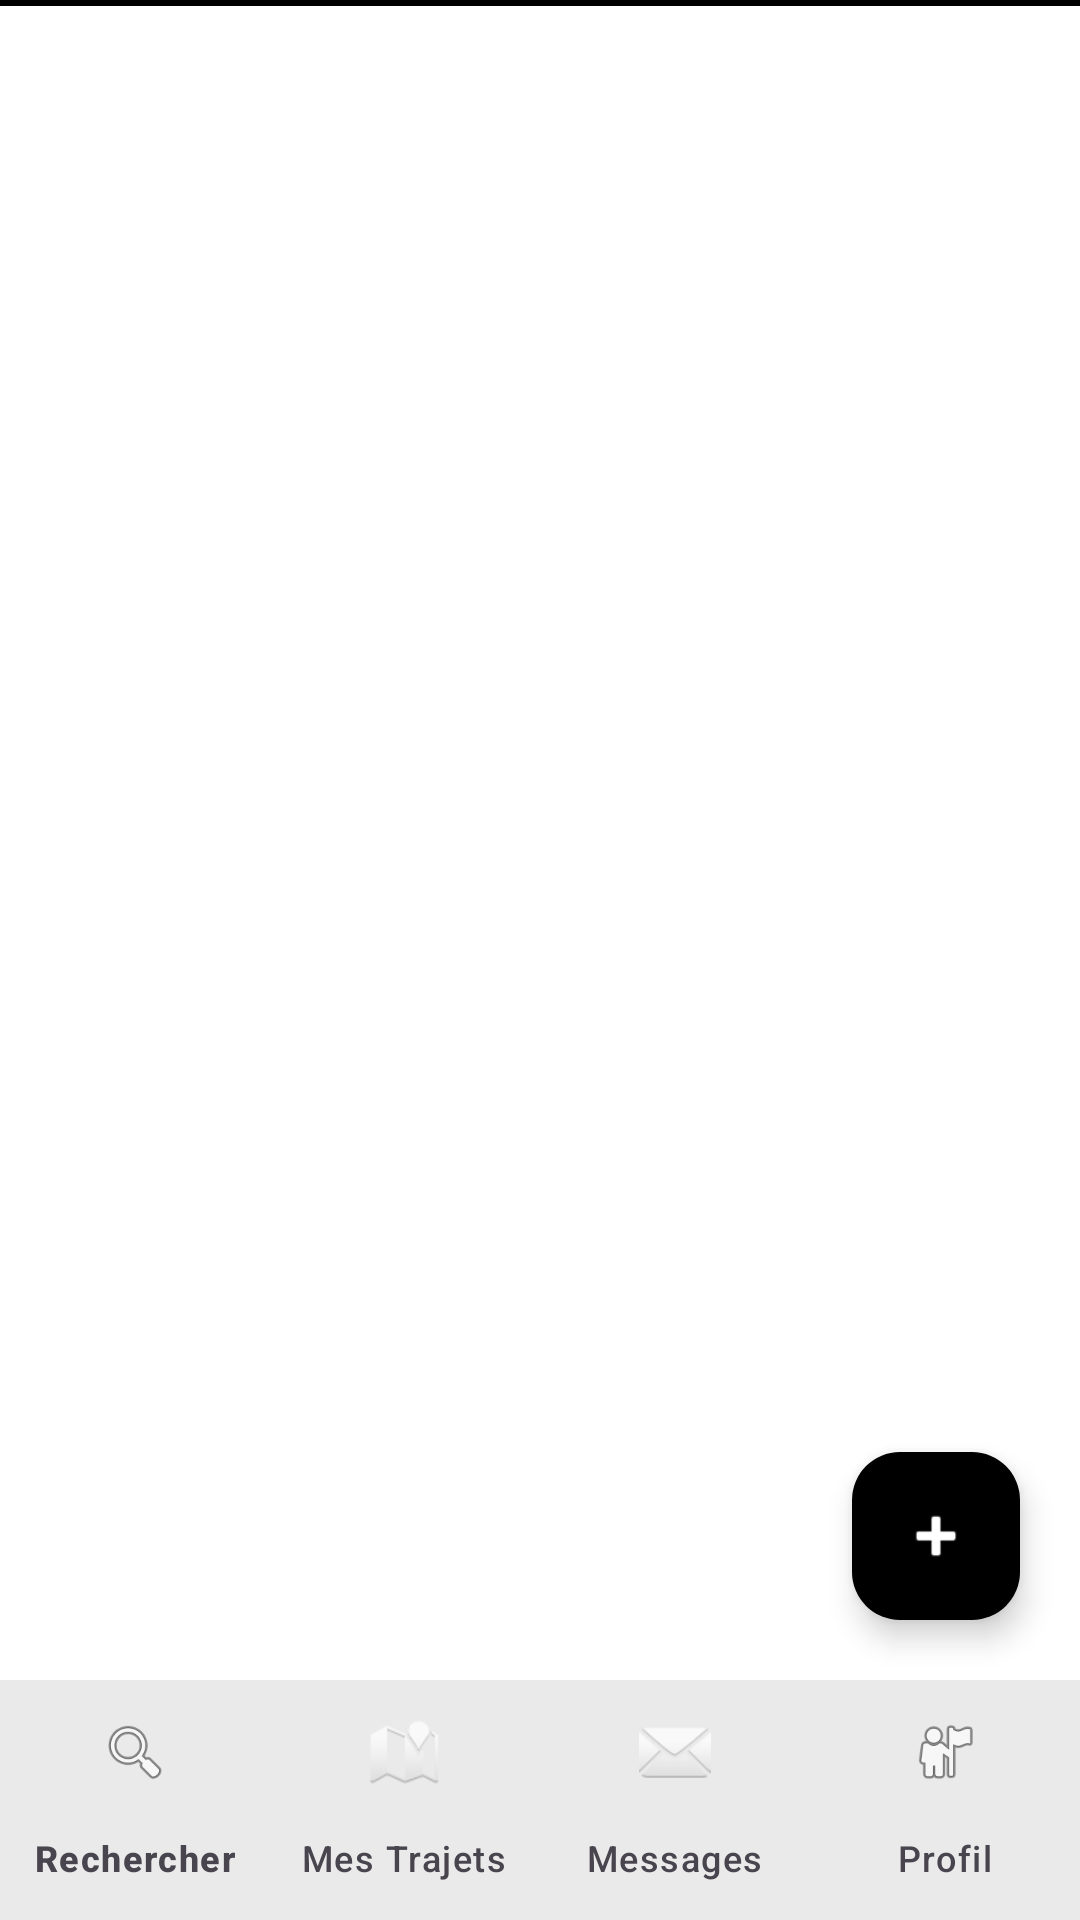

Named icons in this screenshot (1080w x 1920h) and their bounding boxes, (x1, y1, x2, y2):
Créer un trajet: (852, 1452, 1020, 1620)
